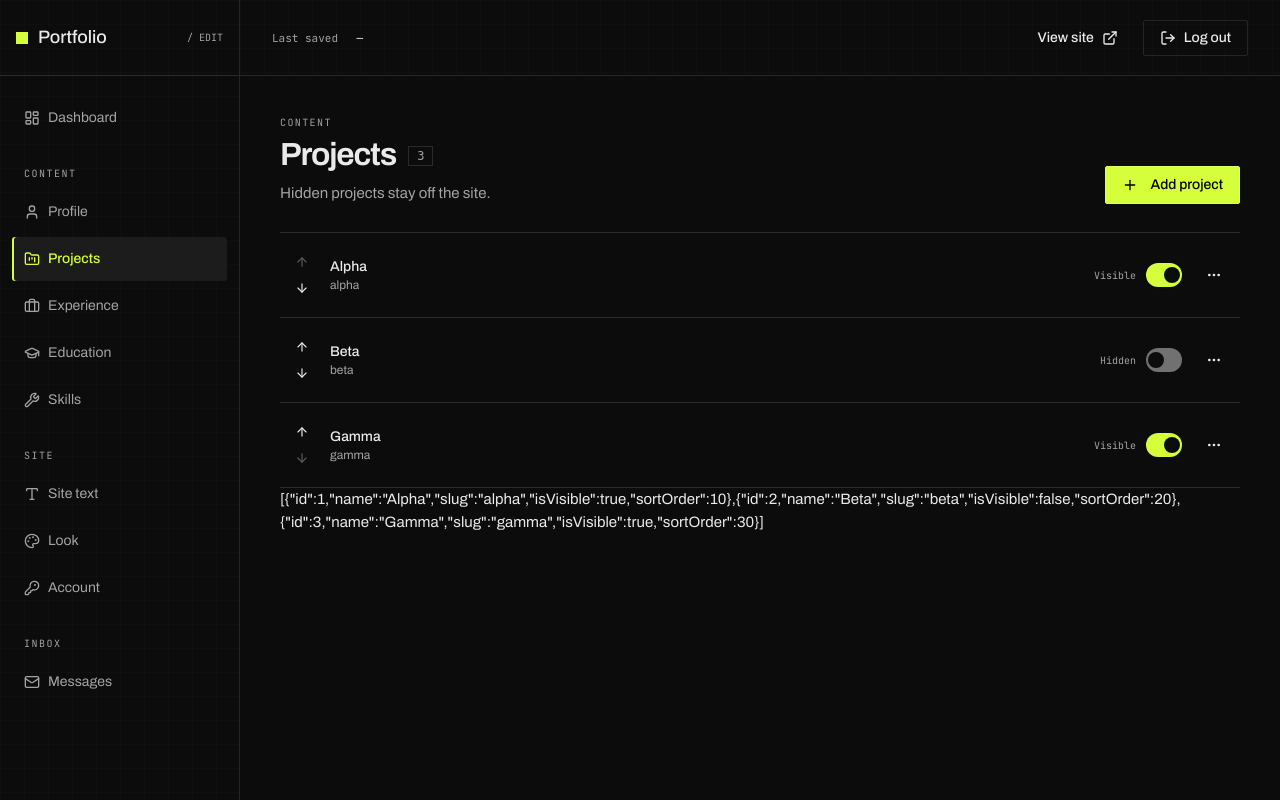
Test case: ListEditor › reorder failure shows the optimistic order, then restores the exact previous order and sortOrder
Expected: the text "Alpha" is shown, [330,257,367,277]
Click the button named "Actions for Alpha" at (1214, 275), box [1196,257,1232,293]
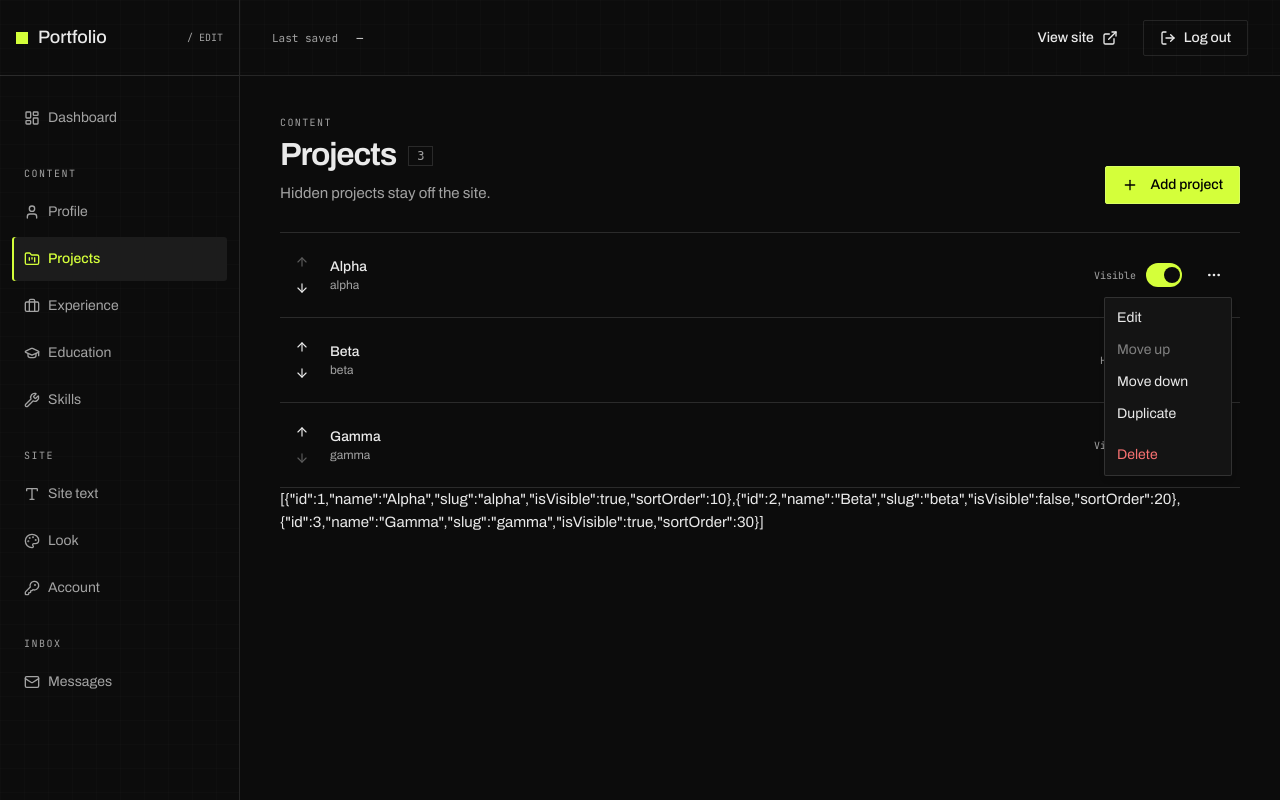
Click the menu item "Move down" at (1153, 382), box [1117,374,1188,389]
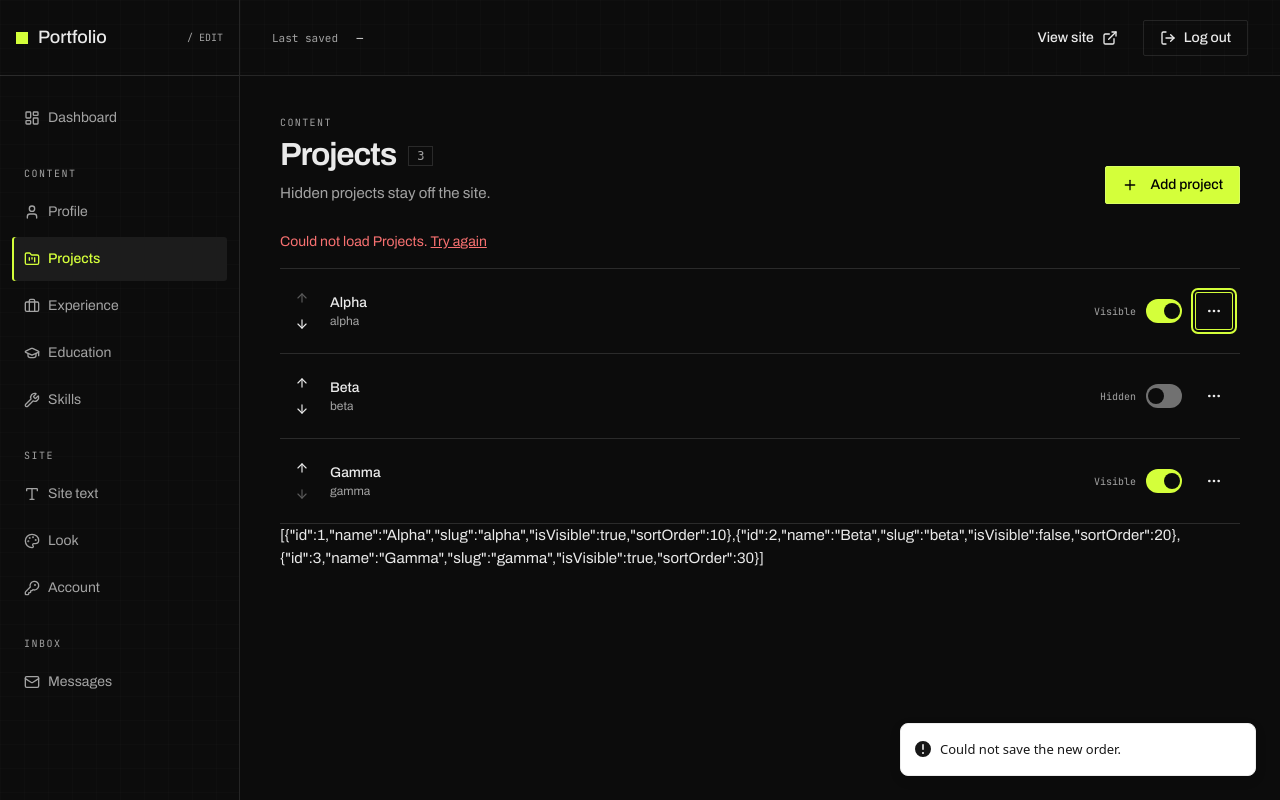
Expected: the list item "Beta beta Hidden" is shown, [280,354,1240,439]
Now the text "Could not save the new order." is shown, box [940,740,1121,759]
